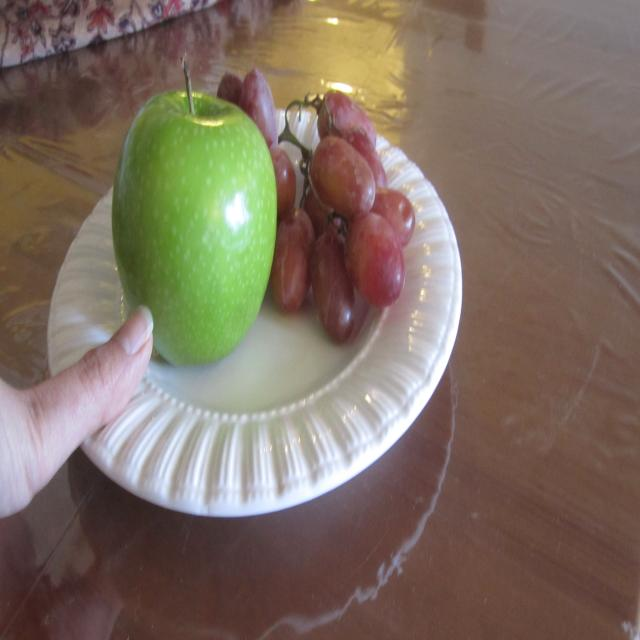apple: (112, 77, 278, 370)
grape: (281, 61, 434, 340)
